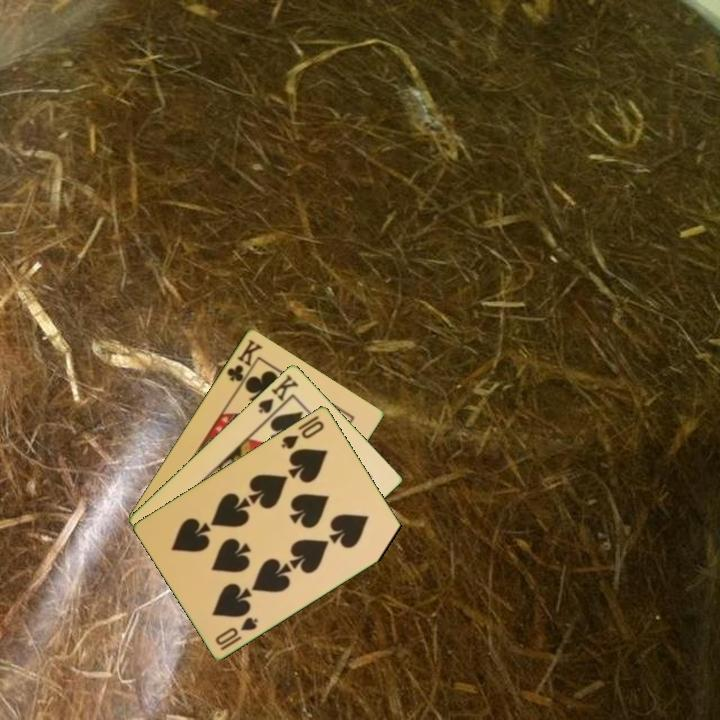10s: (212, 613, 261, 653), (278, 417, 327, 452)
Kc: (223, 335, 266, 391)
Ks: (255, 370, 301, 422)
